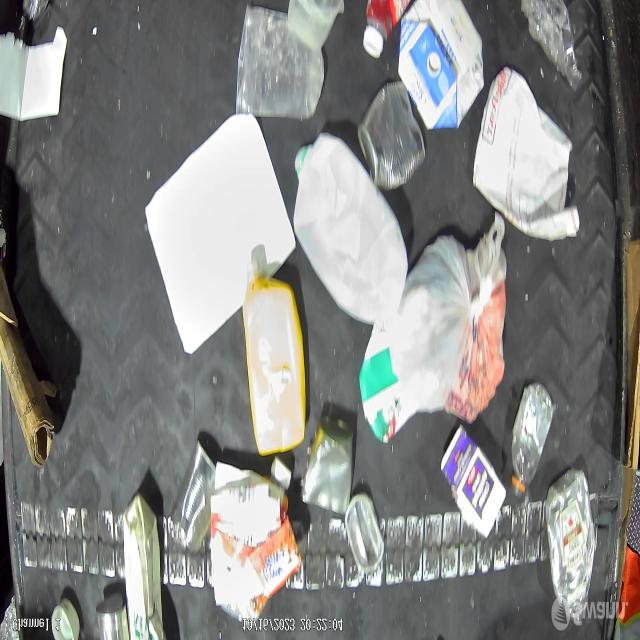can: (356, 78, 426, 192), (301, 416, 354, 516), (171, 441, 215, 552), (95, 593, 130, 640)
milk_jug: (292, 132, 409, 324)
non_white_jug: (242, 259, 306, 455), (545, 467, 595, 627)
plastic_bottle: (510, 379, 555, 498)
